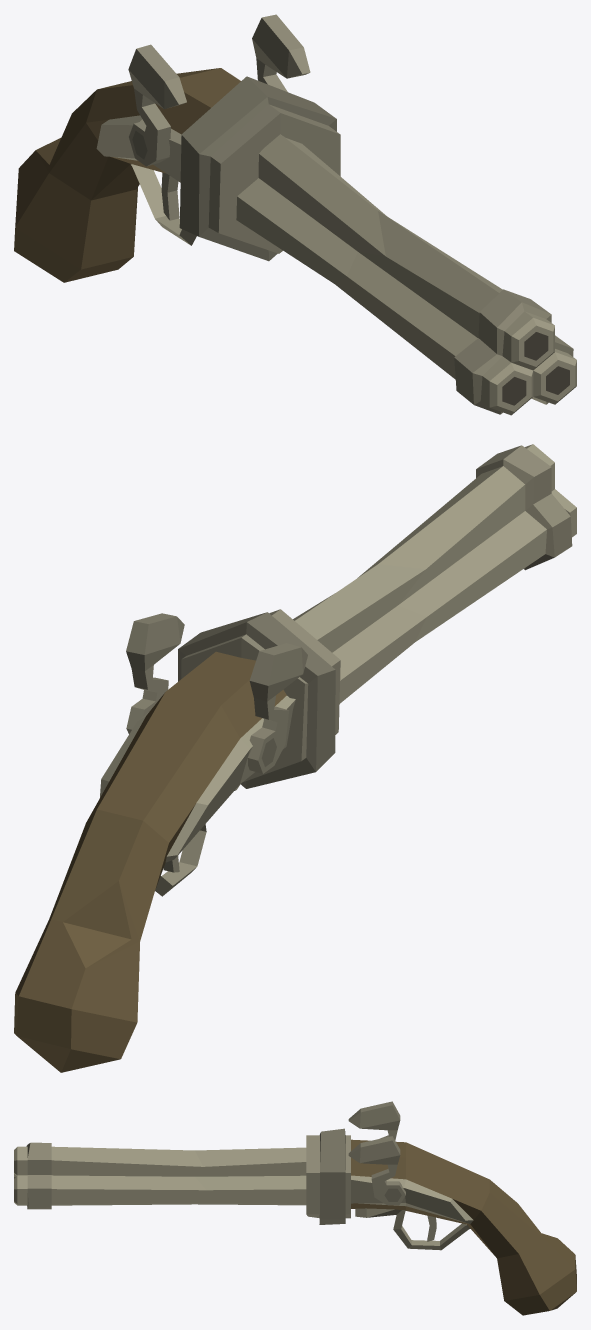
The model's file is Pistol_5.fbx.
3 renders of one model, top to bottom at view 1: azimuth 30°, elevation 25°; view 2: azimuth 150°, elevation 25°; view 3: azimuth 270°, elevation 25°, orthographic. The views are drawn at different scales.
Parts seen in each view (by area): view 1: Pistol_5; view 2: Pistol_5; view 3: Pistol_5.
Part boxes in pixels (x1,y1,x2,y2): Pistol_5: (14,14,576,415); Pistol_5: (14,444,576,1072); Pistol_5: (14,1101,576,1315).
Bounding box in the file's own units: 9.27 × 20.5 × 55.56.
